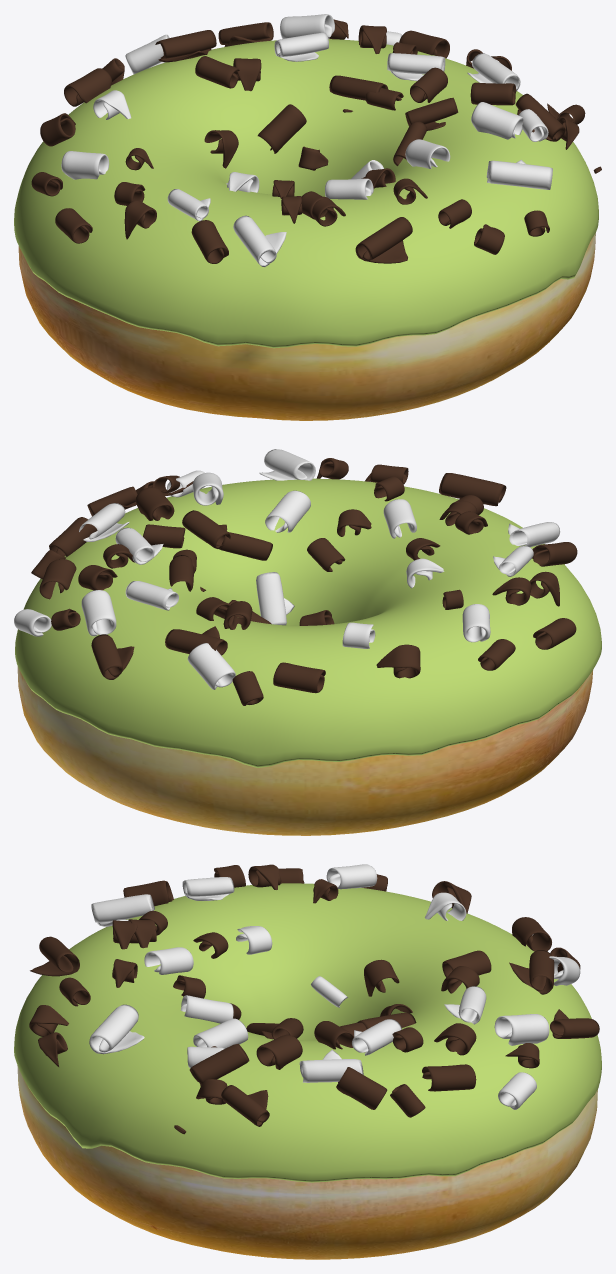
Rendered from pistachio two in one curls.glb.
3 views of the same model, one above another, from view 1: azimuth 30°, elevation 25°; view 2: azimuth 150°, elevation 25°; view 3: azimuth 270°, elevation 25° (orthographic). The views are drawn at different scales.
Parts seen in each view (by area): view 1: chocolate, two in one, Torus; view 2: chocolate, two in one, Torus; view 3: chocolate, two in one, Torus.
Part boxes in pixels (<box>): chocolate: <box>14,39,598,348</box>; two in one: <box>31,14,601,267</box>; Torus: <box>18,233,595,420</box>; chocolate: <box>15,478,601,767</box>; two in one: <box>14,449,577,705</box>; Torus: <box>17,666,592,835</box>; chocolate: <box>14,883,601,1182</box>; two in one: <box>29,864,599,1134</box>; Torus: <box>17,1065,597,1259</box>.
Bounding box in the file's own units: 0.1988 × 0.0804 × 0.1971.
Materials: 4 (1 with a texture image).
